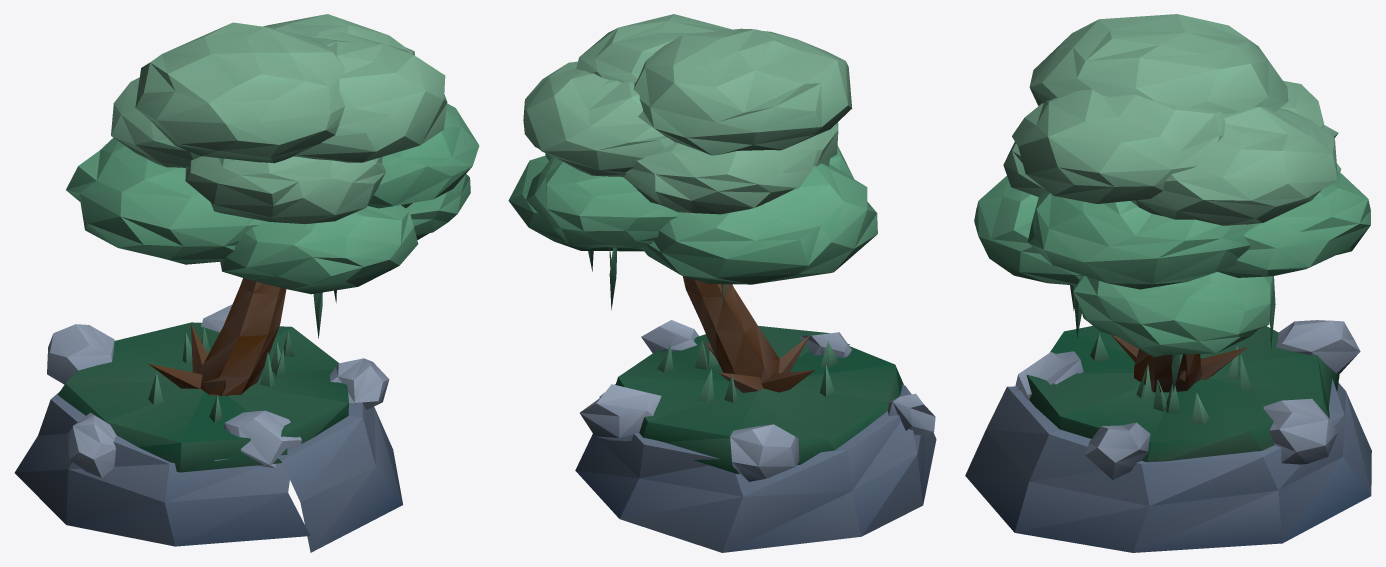
Rendered from pohon_river_emerald_545009.glb.
3 renders of one model, left to right at view 1: azimuth 30°, elevation 25°; view 2: azimuth 150°, elevation 25°; view 3: azimuth 270°, elevation 25°, orthographic. The views are drawn at different scales.
Visible parts, largest first — view 1: Dedaunan_Dan_Sulur, Pulau_Batu_Tepi_Sungai, Batang_Dan_Akar; view 2: Dedaunan_Dan_Sulur, Pulau_Batu_Tepi_Sungai, Batang_Dan_Akar; view 3: Dedaunan_Dan_Sulur, Pulau_Batu_Tepi_Sungai, Batang_Dan_Akar.
Part boxes in pixels (x1=…): Dedaunan_Dan_Sulur: x1=66, y1=14, x2=479, y2=338; Pulau_Batu_Tepi_Sungai: x1=14, y1=304, x2=402, y2=552; Batang_Dan_Akar: x1=148, y1=278, x2=286, y2=396; Dedaunan_Dan_Sulur: x1=508, y1=14, x2=877, y2=310; Pulau_Batu_Tepi_Sungai: x1=575, y1=320, x2=936, y2=552; Batang_Dan_Akar: x1=682, y1=276, x2=814, y2=392; Dedaunan_Dan_Sulur: x1=974, y1=14, x2=1370, y2=392; Pulau_Batu_Tepi_Sungai: x1=965, y1=320, x2=1371, y2=552; Batang_Dan_Akar: x1=1111, y1=334, x2=1247, y2=392.
Bounding box in the file's own units: 6.66 × 6.6 × 5.41.
